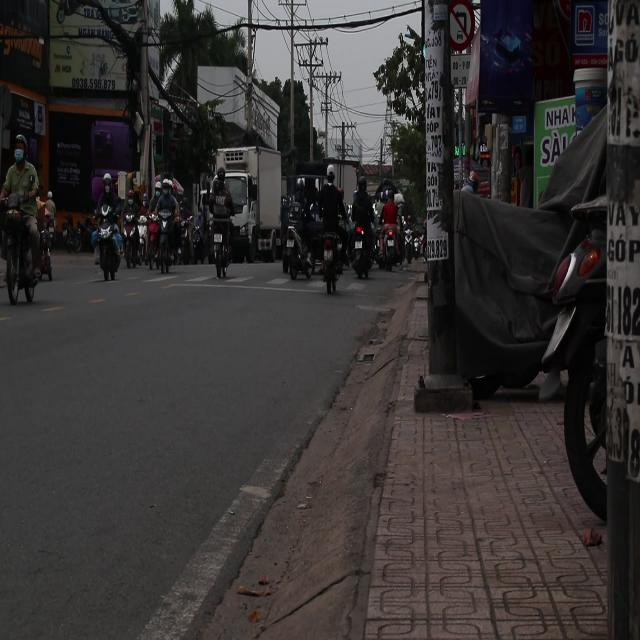motorbike: (92, 210, 124, 282), (120, 205, 146, 270), (280, 227, 310, 280), (210, 218, 233, 280), (161, 213, 184, 272), (352, 225, 376, 281), (322, 237, 343, 294), (145, 215, 164, 272), (189, 210, 207, 264), (62, 220, 82, 253)
truck: (219, 144, 283, 262)
